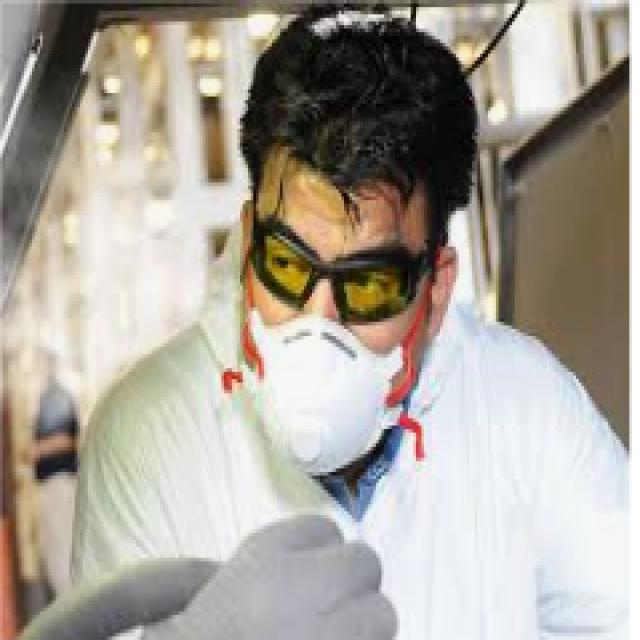glasses: (243, 216, 442, 330)
